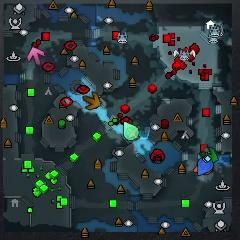p1: (196, 157, 213, 176)
p2: (121, 122, 140, 140)
p5: (192, 165, 213, 176)
x1: (27, 46, 45, 65)
x4: (200, 146, 218, 162)
x5: (82, 91, 101, 110)
